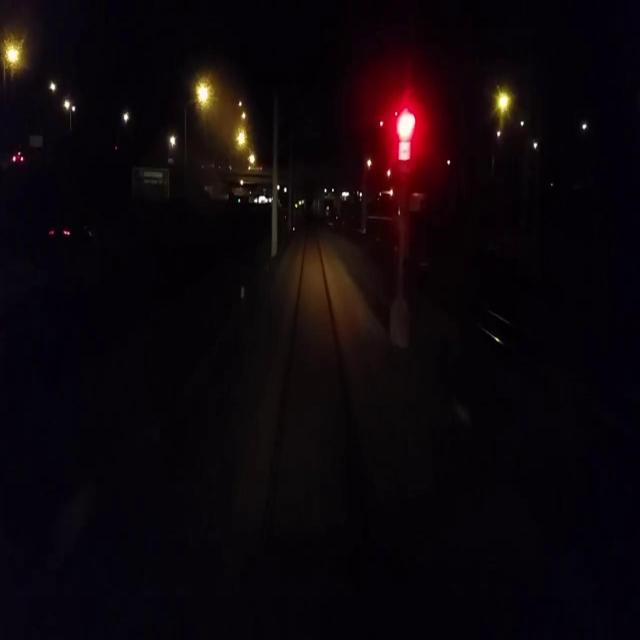rail-track: (262, 223, 371, 575)
